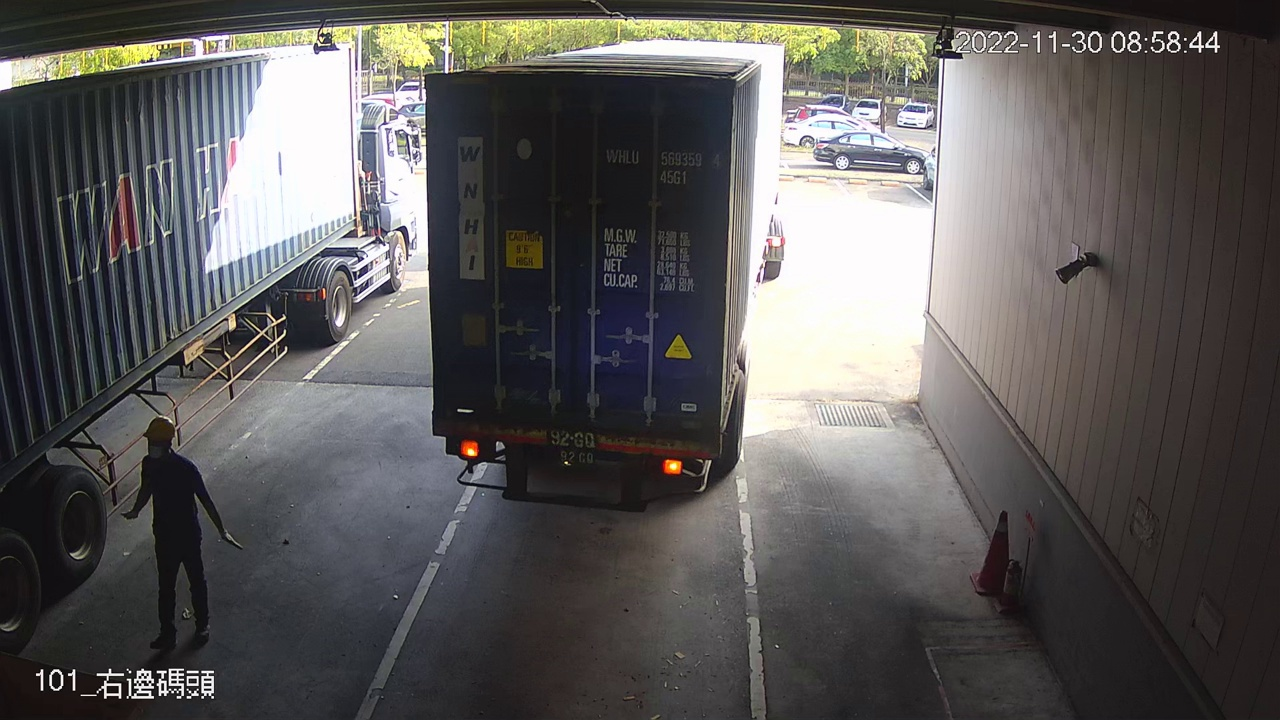container: (598, 140, 726, 189)
